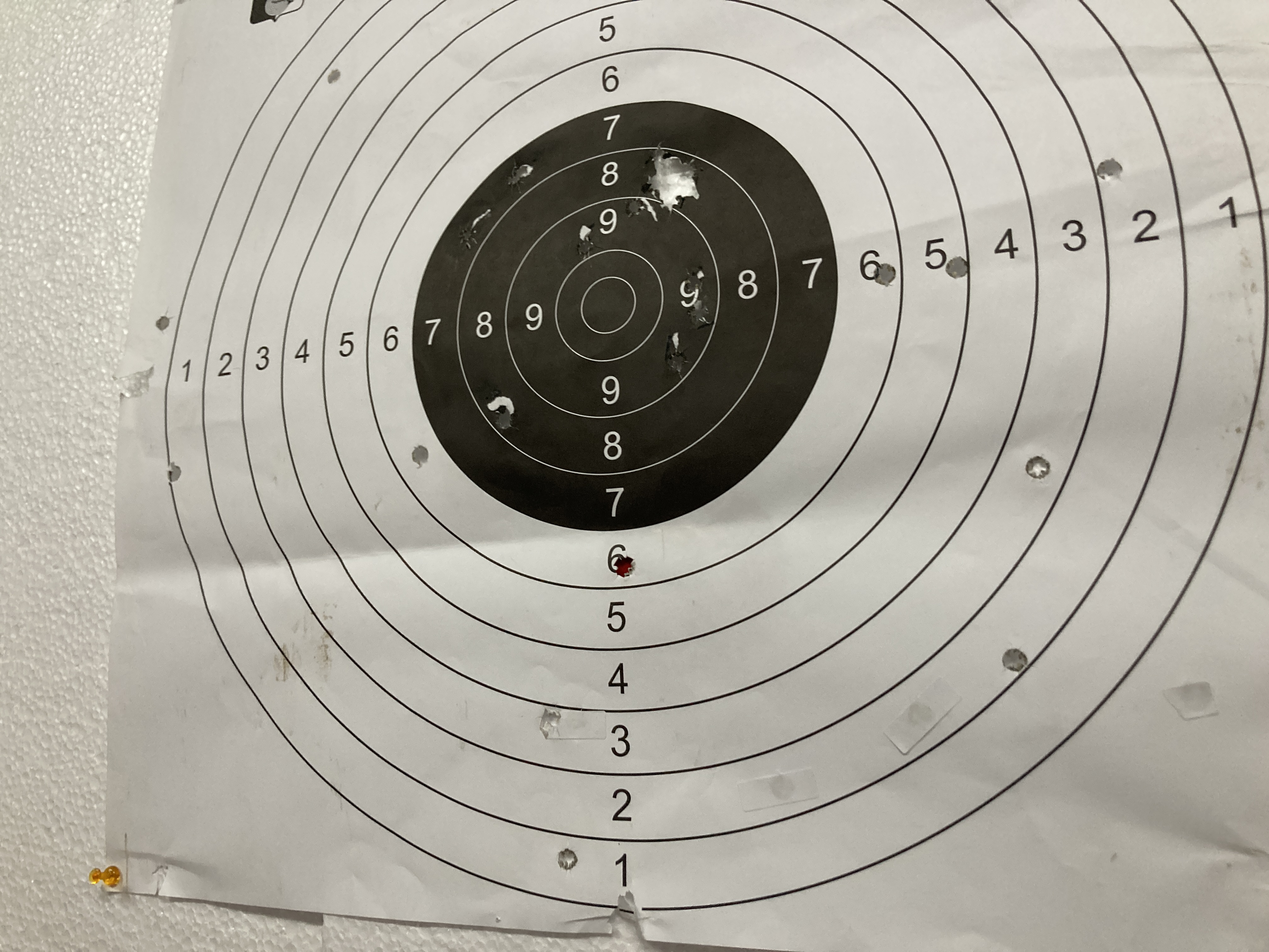hole: (647, 128, 711, 215), (1014, 450, 1073, 501), (1087, 147, 1144, 197), (502, 153, 544, 208), (654, 346, 705, 388), (936, 250, 981, 295), (481, 396, 527, 439), (397, 435, 440, 480), (444, 217, 490, 259), (869, 258, 910, 299), (678, 301, 728, 333), (529, 704, 570, 743), (545, 844, 584, 883), (672, 264, 715, 296), (570, 222, 602, 258), (609, 549, 641, 584), (158, 460, 192, 492), (623, 186, 653, 221), (319, 65, 351, 91), (149, 312, 177, 336), (987, 639, 1024, 655)
